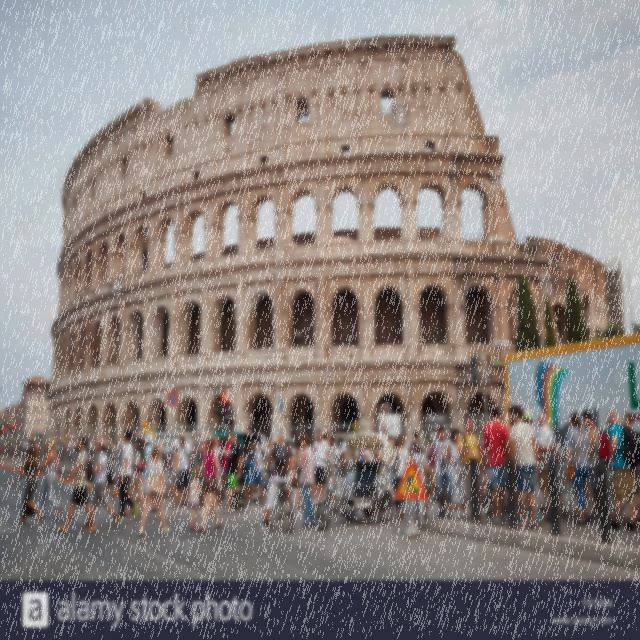pessoa: (54, 436, 99, 534), (606, 408, 640, 532), (80, 437, 122, 530), (510, 404, 540, 531), (523, 409, 555, 526), (482, 404, 512, 526), (259, 432, 294, 534), (456, 417, 488, 524), (564, 411, 594, 525), (137, 443, 173, 538), (507, 406, 531, 523), (12, 444, 46, 526), (198, 435, 224, 533), (544, 416, 568, 520), (173, 433, 206, 506), (580, 409, 602, 518), (432, 424, 456, 521), (35, 438, 63, 521), (622, 411, 640, 528), (118, 428, 140, 522), (446, 427, 468, 520), (222, 432, 246, 515), (296, 432, 316, 530), (123, 437, 147, 518), (406, 438, 428, 525), (537, 412, 554, 521), (135, 433, 158, 513), (408, 441, 429, 523), (312, 428, 332, 509), (185, 467, 207, 532), (392, 434, 408, 520), (168, 439, 186, 510), (248, 440, 266, 507), (572, 472, 594, 518), (377, 439, 390, 514), (29, 437, 68, 462), (240, 441, 254, 504), (426, 431, 438, 504), (327, 434, 340, 498), (478, 438, 488, 517), (296, 436, 306, 509), (223, 432, 232, 509), (0, 437, 30, 459), (197, 492, 222, 516), (310, 438, 318, 504), (218, 436, 226, 496), (267, 436, 280, 472), (480, 420, 490, 462), (235, 422, 252, 446), (408, 429, 422, 458), (191, 432, 201, 470), (340, 438, 350, 472), (113, 438, 126, 464), (284, 436, 298, 459), (130, 431, 140, 456), (390, 438, 400, 462), (162, 442, 170, 471), (105, 436, 114, 459), (424, 439, 432, 464), (362, 447, 374, 463), (446, 500, 462, 512), (507, 433, 514, 459), (200, 438, 208, 460), (74, 438, 81, 462), (215, 436, 222, 459), (322, 431, 332, 447), (381, 414, 388, 436), (68, 438, 74, 462), (354, 446, 362, 462), (265, 440, 272, 456), (88, 437, 94, 455), (387, 434, 394, 446), (141, 438, 146, 452), (446, 430, 452, 440), (395, 432, 402, 439), (373, 508, 378, 516)
